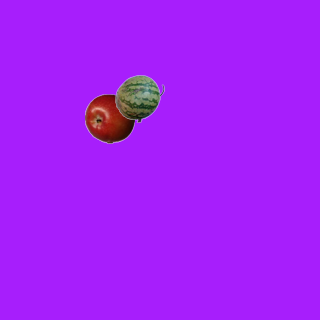Apple Braeburn: (84, 93, 134, 143)
Watermelon: (114, 73, 164, 123)
